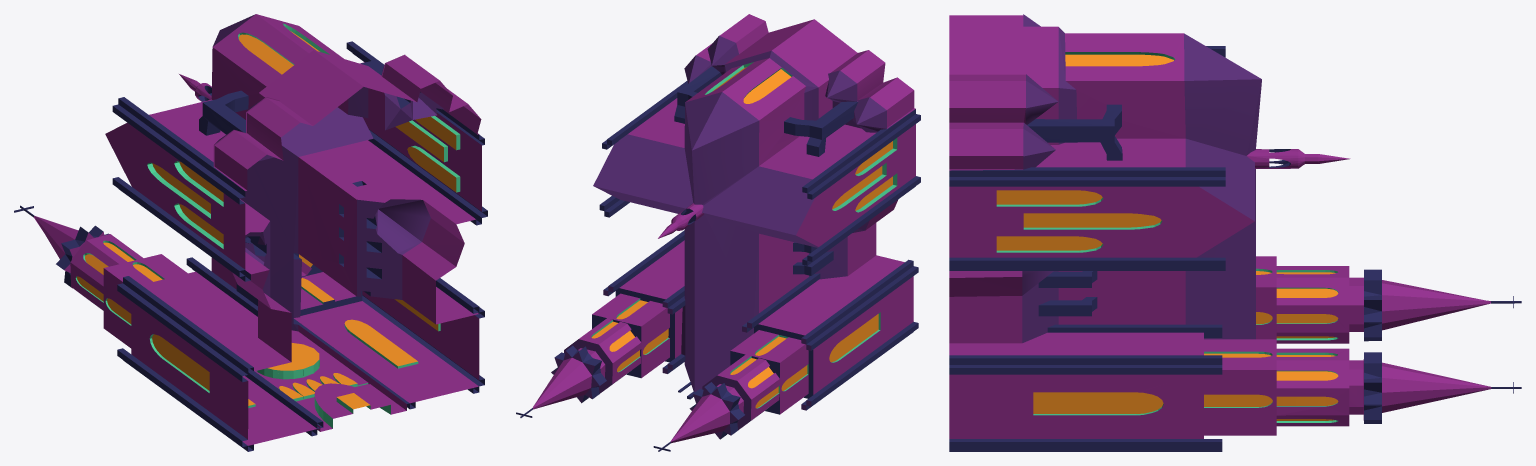
File: Katedra.fbx
3 views of the same model, side by side, from view 1: azimuth 30°, elevation 25°; view 2: azimuth 150°, elevation 25°; view 3: azimuth 270°, elevation 25° (orthographic). The views are drawn at different scales.
Parts seen in each view (by area): view 1: RADOM_3D_Katedra; view 2: RADOM_3D_Katedra; view 3: RADOM_3D_Katedra.
Part boxes in pixels (bbox=[...]): RADOM_3D_Katedra: bbox=[14, 14, 487, 451]; RADOM_3D_Katedra: bbox=[516, 14, 920, 451]; RADOM_3D_Katedra: bbox=[949, 14, 1521, 451].
Bounding box in the file's own units: 3.91 × 5.07 × 7.17.
